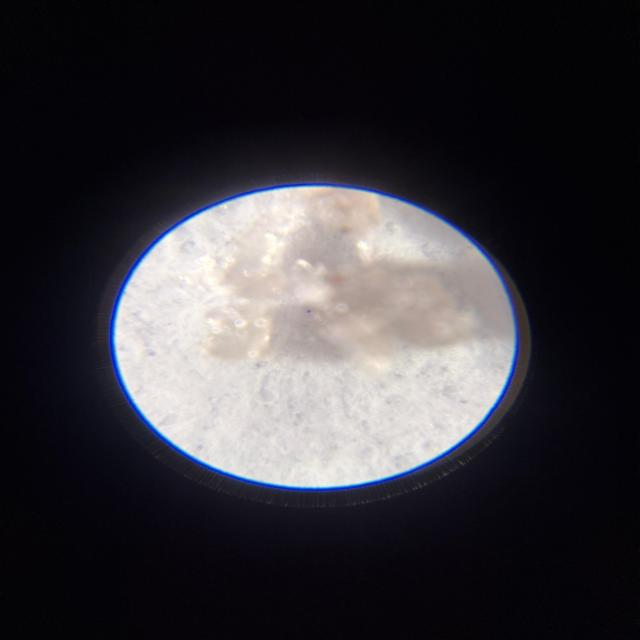microplastic_type_1: (288, 257, 480, 374), (191, 241, 289, 361)
